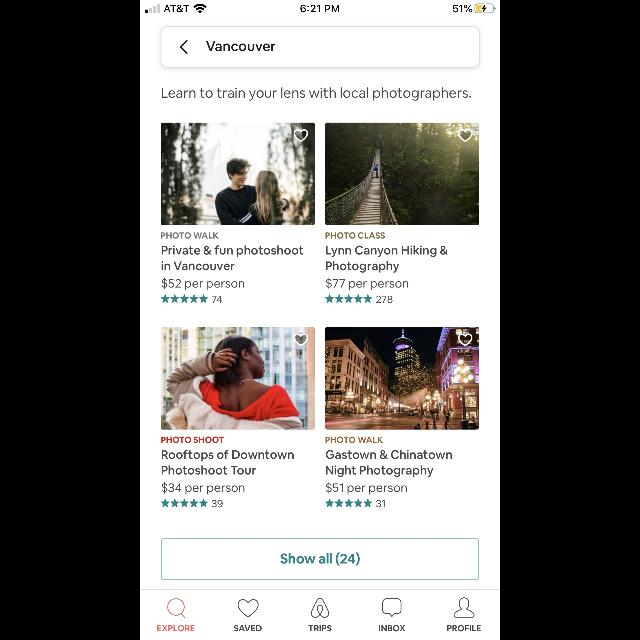icon: (454, 598, 474, 618), (160, 499, 208, 507), (326, 499, 372, 507), (326, 295, 372, 303), (162, 295, 208, 303), (382, 599, 402, 617), (238, 599, 258, 617), (167, 598, 185, 618), (294, 334, 308, 346), (458, 334, 472, 346), (294, 130, 308, 142), (458, 130, 472, 142), (180, 40, 188, 54)
image: (326, 327, 478, 429), (162, 327, 314, 429), (326, 123, 478, 225), (162, 123, 314, 225), (311, 598, 329, 618)
input: (161, 27, 479, 68)
text: (163, 88, 471, 100), (162, 449, 294, 461), (326, 246, 448, 258), (162, 246, 304, 256), (326, 465, 434, 477), (326, 449, 452, 458), (162, 482, 244, 494), (326, 278, 408, 290), (162, 278, 244, 290), (327, 482, 407, 494), (326, 261, 399, 273), (162, 466, 256, 474), (207, 42, 276, 52), (162, 262, 234, 270), (160, 436, 223, 444), (325, 233, 385, 239), (326, 437, 382, 443), (162, 233, 218, 239), (158, 625, 195, 631), (448, 625, 480, 631), (234, 625, 262, 631), (379, 625, 405, 631), (308, 625, 332, 631), (376, 296, 392, 302), (212, 500, 222, 508), (377, 500, 385, 508), (212, 296, 222, 302)
textbutton: (161, 538, 479, 580)
uppertaskbar: (140, 0, 500, 14)
